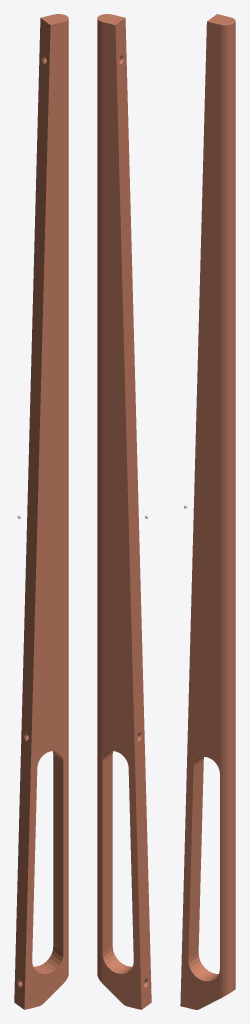
File: 175 pvd r gold.glb
The picture shows the model from 3 angles, left to right: view 1: azimuth 30°, elevation 25°; view 2: azimuth 150°, elevation 25°; view 3: azimuth 330°, elevation 25°; orthographic projection.
Parts seen in each view (by area): view 1: CABINET_HANDLE_175; view 2: CABINET_HANDLE_175; view 3: CABINET_HANDLE_175.
Boxes of the visible parts, box(x1,y1,x2,y2) form: CABINET_HANDLE_175: box(14, 14, 68, 1009); CABINET_HANDLE_175: box(97, 14, 151, 1009); CABINET_HANDLE_175: box(180, 14, 235, 1009).
Bounding box in the file's own units: 0.9888 × 18.67 × 0.35.
